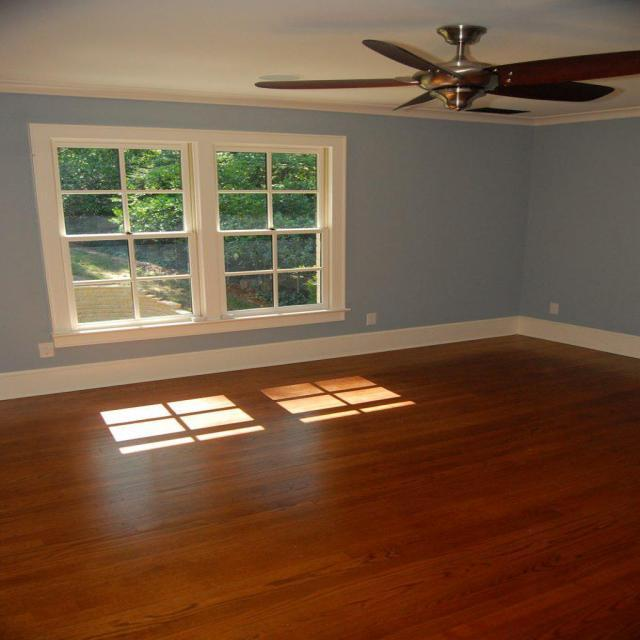fan_off: (249, 23, 640, 110)
